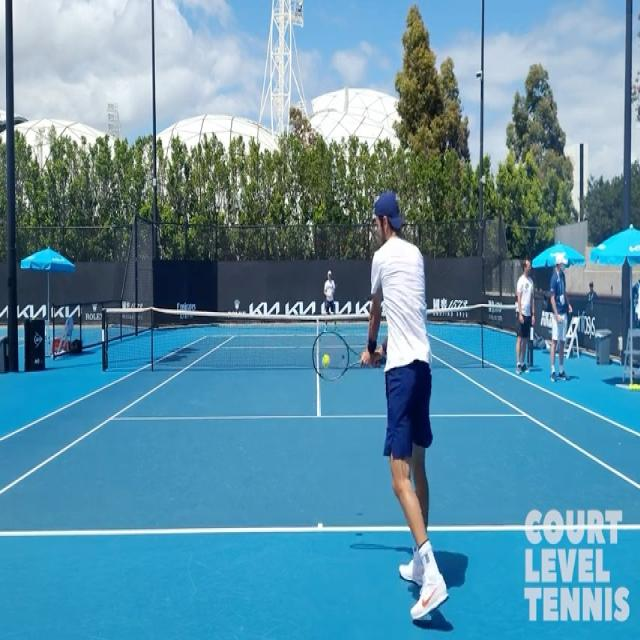backhand-stroke: (309, 177, 450, 631)
